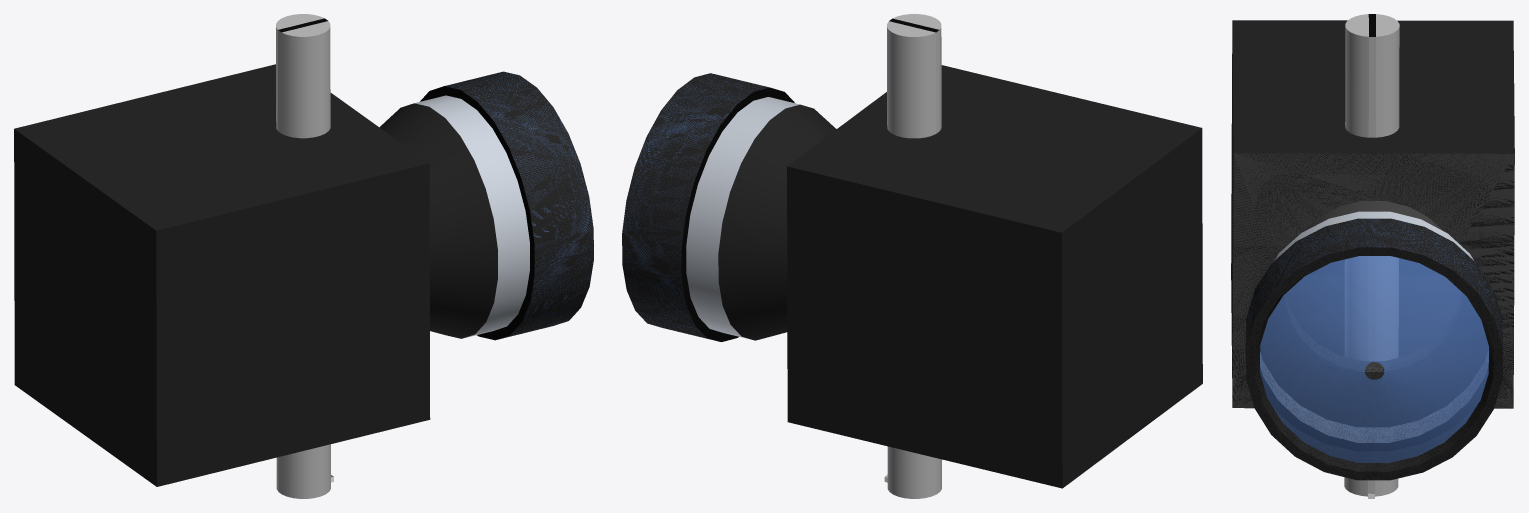
Rendered from camera.dae.
The picture shows the model from 3 angles, left to right: view 1: azimuth 30°, elevation 25°; view 2: azimuth 150°, elevation 25°; view 3: azimuth 270°, elevation 25°; orthographic projection.
Parts seen in each view (by area): view 1: component_0 (×5), component_1; view 2: component_0 (×5), component_1; view 3: component_0 (×10), component_1 (×3).
Part boxes in pixels (x1,y1,x2,y2): component_0 (×5): (14,64,593,486); component_1: (276,27,330,498); component_0 (×5): (622,65,1202,488); component_1: (887,27,941,498); component_0 (×10): (1231,20,1514,480); component_1 (×3): (1344,14,1399,496).
Bounding box in the file's own units: 5.9 × 3.17 × 5.67.
